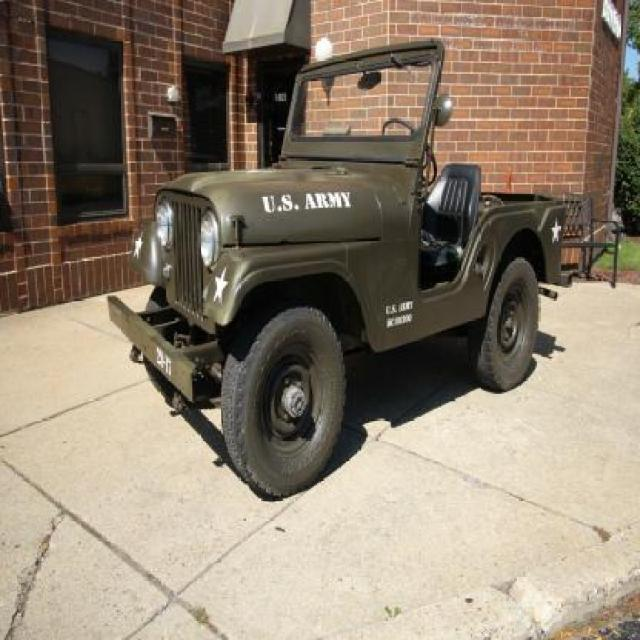Jeep: (107, 41, 558, 503)
